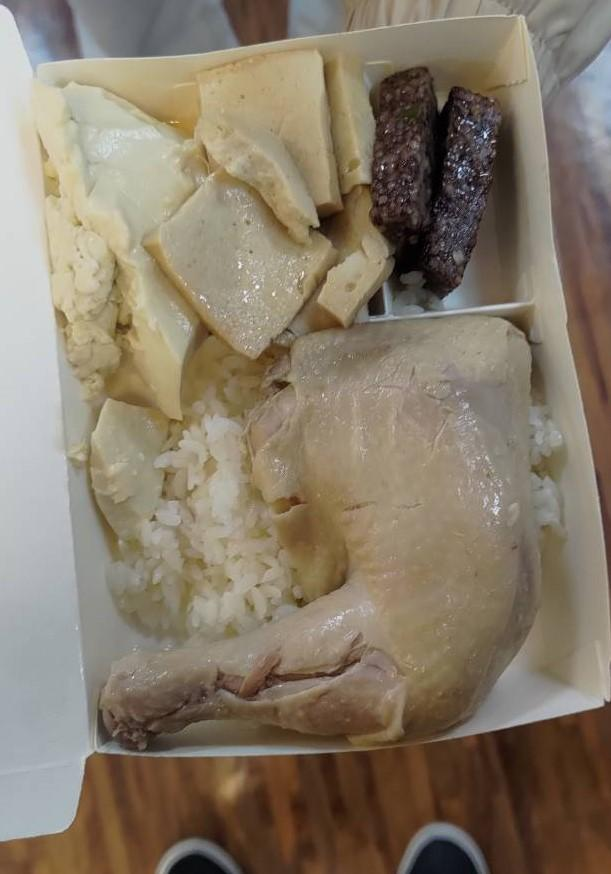big grilled chicken leg: (20, 16, 611, 774)
big herbal chicken leg: (102, 334, 570, 652)
braised fish fillet: (168, 38, 385, 352), (38, 80, 198, 411), (369, 67, 509, 299)
brown rice: (99, 308, 542, 766)
